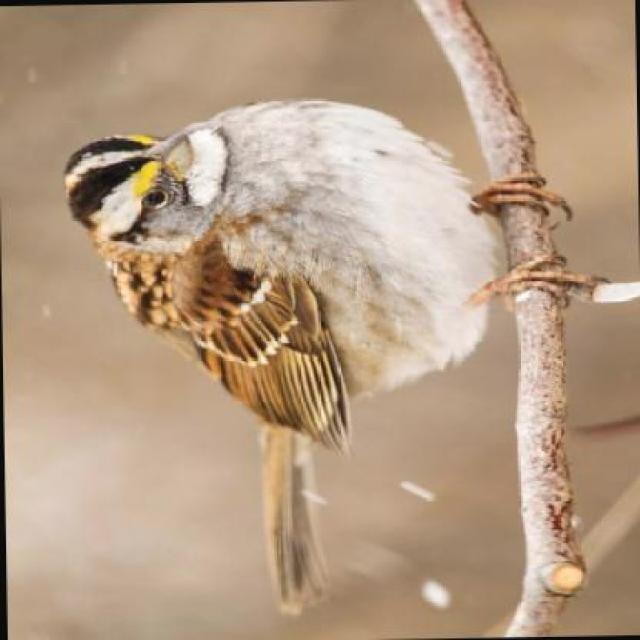Bird: (52, 99, 480, 606)
